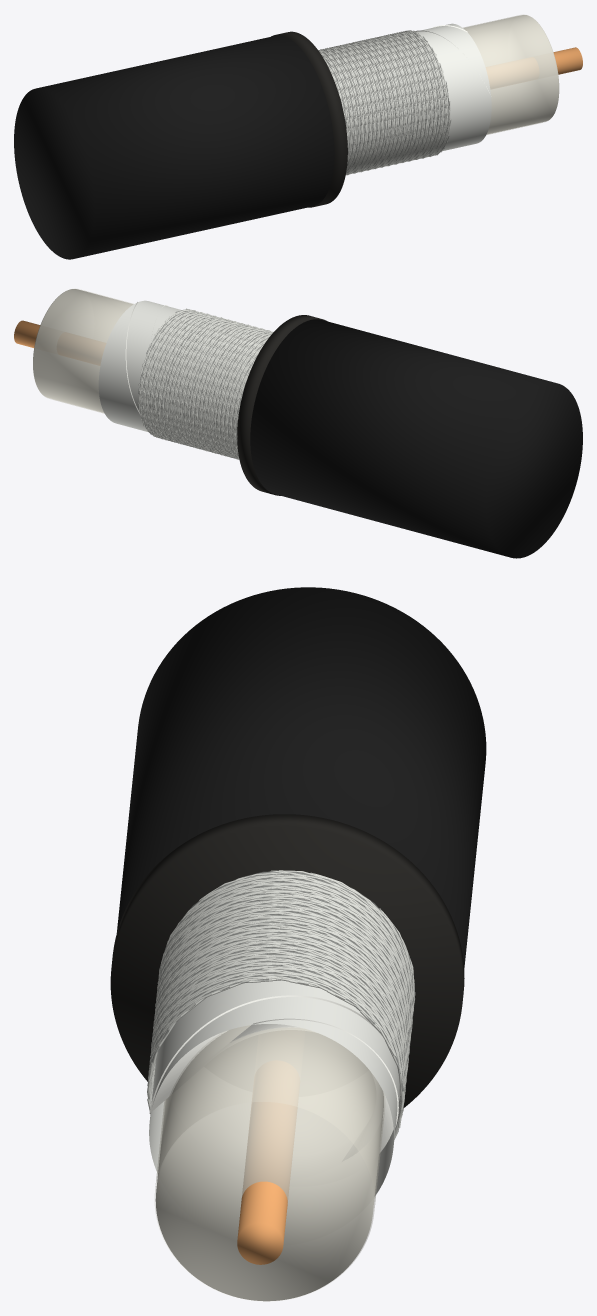
The model's file is rf-belden4694r.glb.
The picture shows the model from 3 angles, top to bottom: view 1: azimuth 30°, elevation 25°; view 2: azimuth 150°, elevation 25°; view 3: azimuth 270°, elevation 25°; orthographic projection. The views are drawn at different scales.
Visible parts, largest first — view 1: matte black pvc jacket body, gas injected foam dielectric, smooth dielectric skin, duobond foil sleeve, jacket cut lip, braid left hand carrier 02, braid left hand carrier 03, braid left hand carrier 17, braid left hand carrier 20, braid left hand carrier 15, braid left hand carrier 05, braid left hand carrier 18 (+34 smaller); view 2: matte black pvc jacket body, smooth dielectric skin, gas injected foam dielectric, duobond foil sleeve, jacket cut lip, braid left hand carrier 17, braid left hand carrier 11, braid left hand carrier 14, braid left hand carrier 15, braid left hand carrier 12, braid left hand carrier 09, braid left hand carrier 18 (+34 smaller); view 3: matte black pvc jacket body, gas injected foam dielectric, jacket cut lip, smooth dielectric skin, duobond foil sleeve, solid center conductor continuous, subtle foil wrap lap, braid left hand carrier 20, braid left hand carrier 18, braid left hand carrier 03, braid left hand carrier 06, braid left hand carrier 15 (+15 smaller).
Part boxes in pixels (bbox=[...]): matte black pvc jacket body: bbox=[14, 35, 334, 259]; gas injected foam dielectric: bbox=[463, 15, 559, 134]; smooth dielectric skin: bbox=[463, 14, 558, 134]; duobond foil sleeve: bbox=[332, 23, 491, 159]; jacket cut lip: bbox=[271, 31, 347, 207]; braid left hand carrier 02: bbox=[327, 30, 442, 174]; braid left hand carrier 03: bbox=[329, 30, 443, 174]; braid left hand carrier 17: bbox=[320, 32, 435, 172]; braid left hand carrier 20: bbox=[327, 30, 439, 172]; braid left hand carrier 15: bbox=[320, 32, 433, 172]; braid left hand carrier 05: bbox=[331, 35, 446, 175]; braid left hand carrier 18: bbox=[322, 31, 437, 170]; matte black pvc jacket body: bbox=[250, 319, 582, 558]; smooth dielectric skin: bbox=[33, 288, 133, 413]; gas injected foam dielectric: bbox=[33, 289, 132, 412]; duobond foil sleeve: bbox=[98, 300, 259, 438]; jacket cut lip: bbox=[237, 315, 327, 495]; braid left hand carrier 17: bbox=[140, 312, 272, 457]; braid left hand carrier 11: bbox=[148, 313, 266, 459]; braid left hand carrier 14: bbox=[144, 312, 270, 457]; braid left hand carrier 15: bbox=[142, 312, 271, 459]; braid left hand carrier 12: bbox=[146, 313, 268, 459]; braid left hand carrier 09: bbox=[150, 314, 263, 458]; braid left hand carrier 18: bbox=[139, 311, 272, 456]; matte black pvc jacket body: bbox=[116, 587, 486, 967]; gas injected foam dielectric: bbox=[155, 1025, 383, 1301]; jacket cut lip: bbox=[110, 814, 464, 1107]; smooth dielectric skin: bbox=[155, 1025, 384, 1301]; duobond foil sleeve: bbox=[149, 980, 399, 1195]; solid center conductor continuous: bbox=[237, 1101, 296, 1264]; subtle foil wrap lap: bbox=[149, 995, 400, 1161]; braid left hand carrier 20: bbox=[149, 872, 414, 1088]; braid left hand carrier 18: bbox=[151, 870, 413, 1127]; braid left hand carrier 03: bbox=[151, 876, 413, 1079]; braid left hand carrier 06: bbox=[148, 879, 413, 1092]; braid left hand carrier 15: bbox=[150, 891, 415, 1114].
Size of the model in its own units: 6.54 by 1.94 by 2.07.
